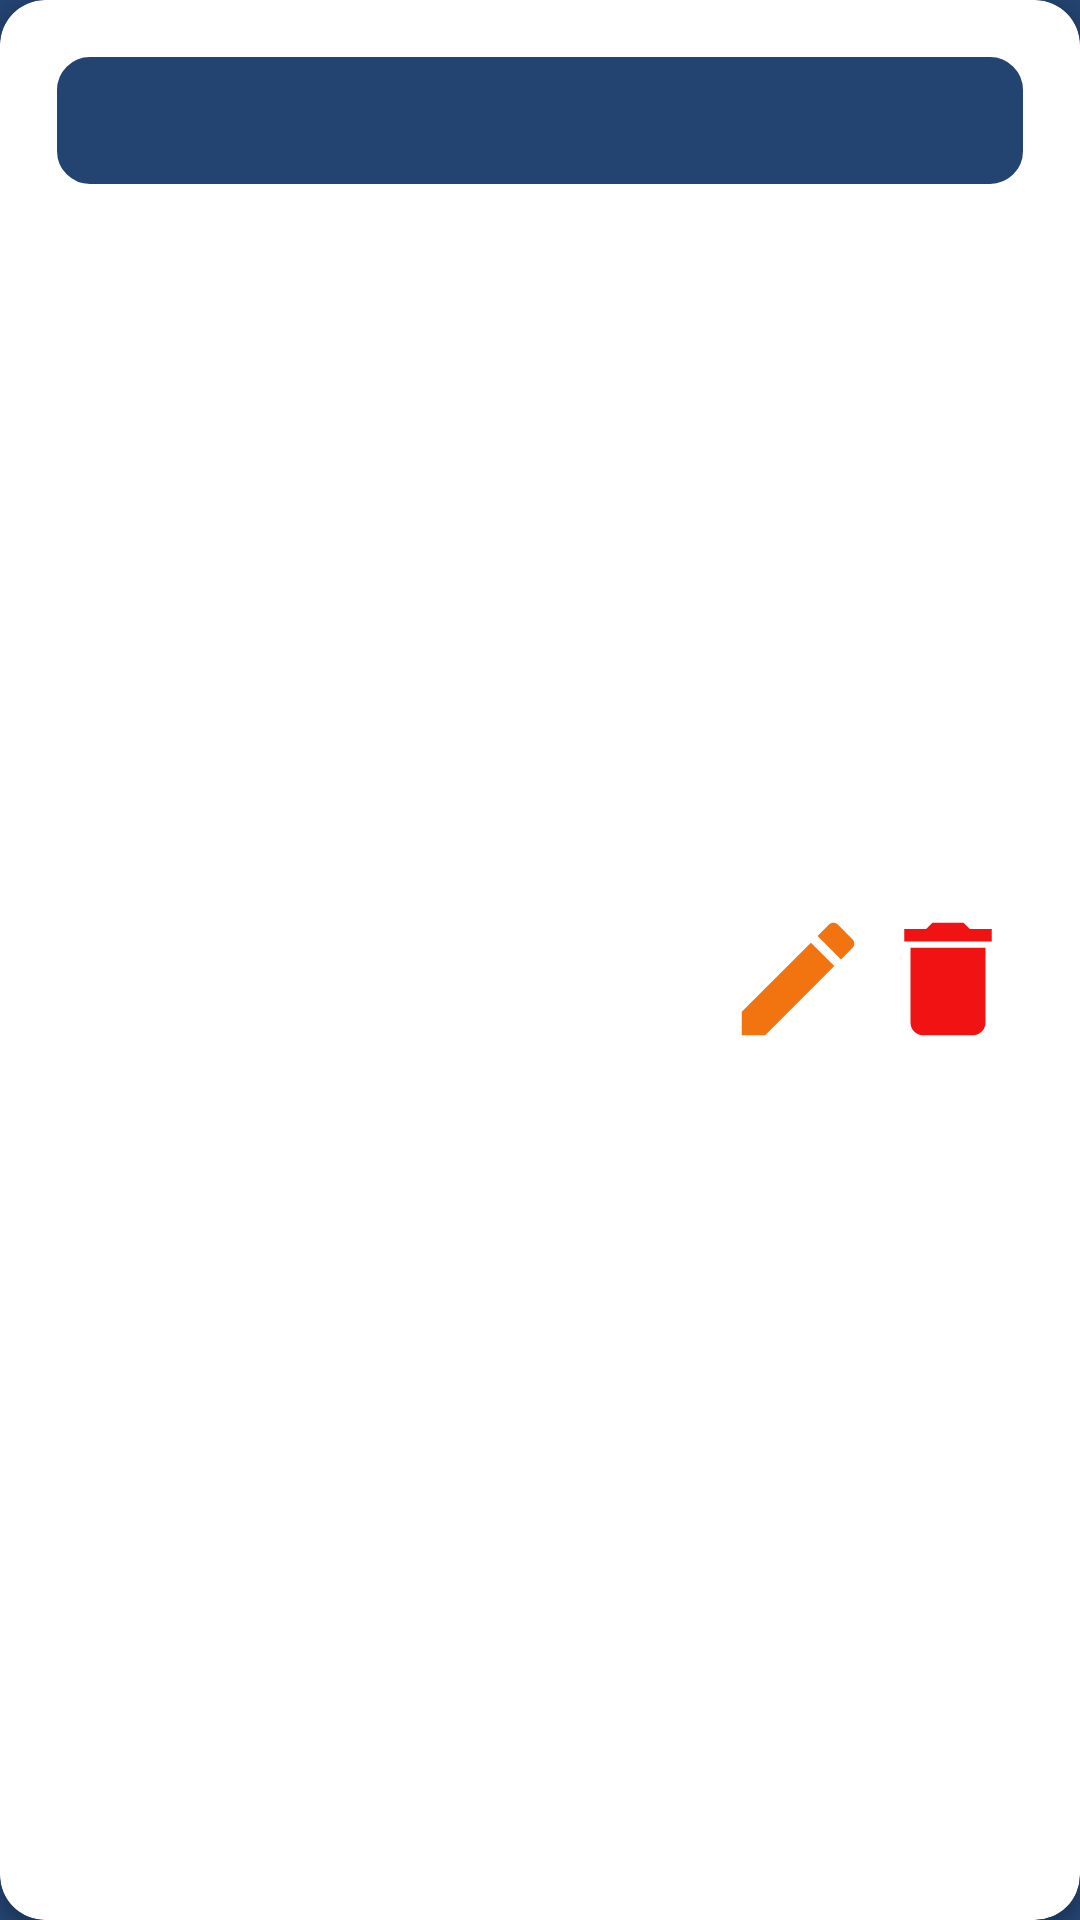

Point at icon controls on the screen. Image size 1080x1920, points as (x=x, y=y).
delete: (x=948, y=979)
edit: (x=798, y=979)
